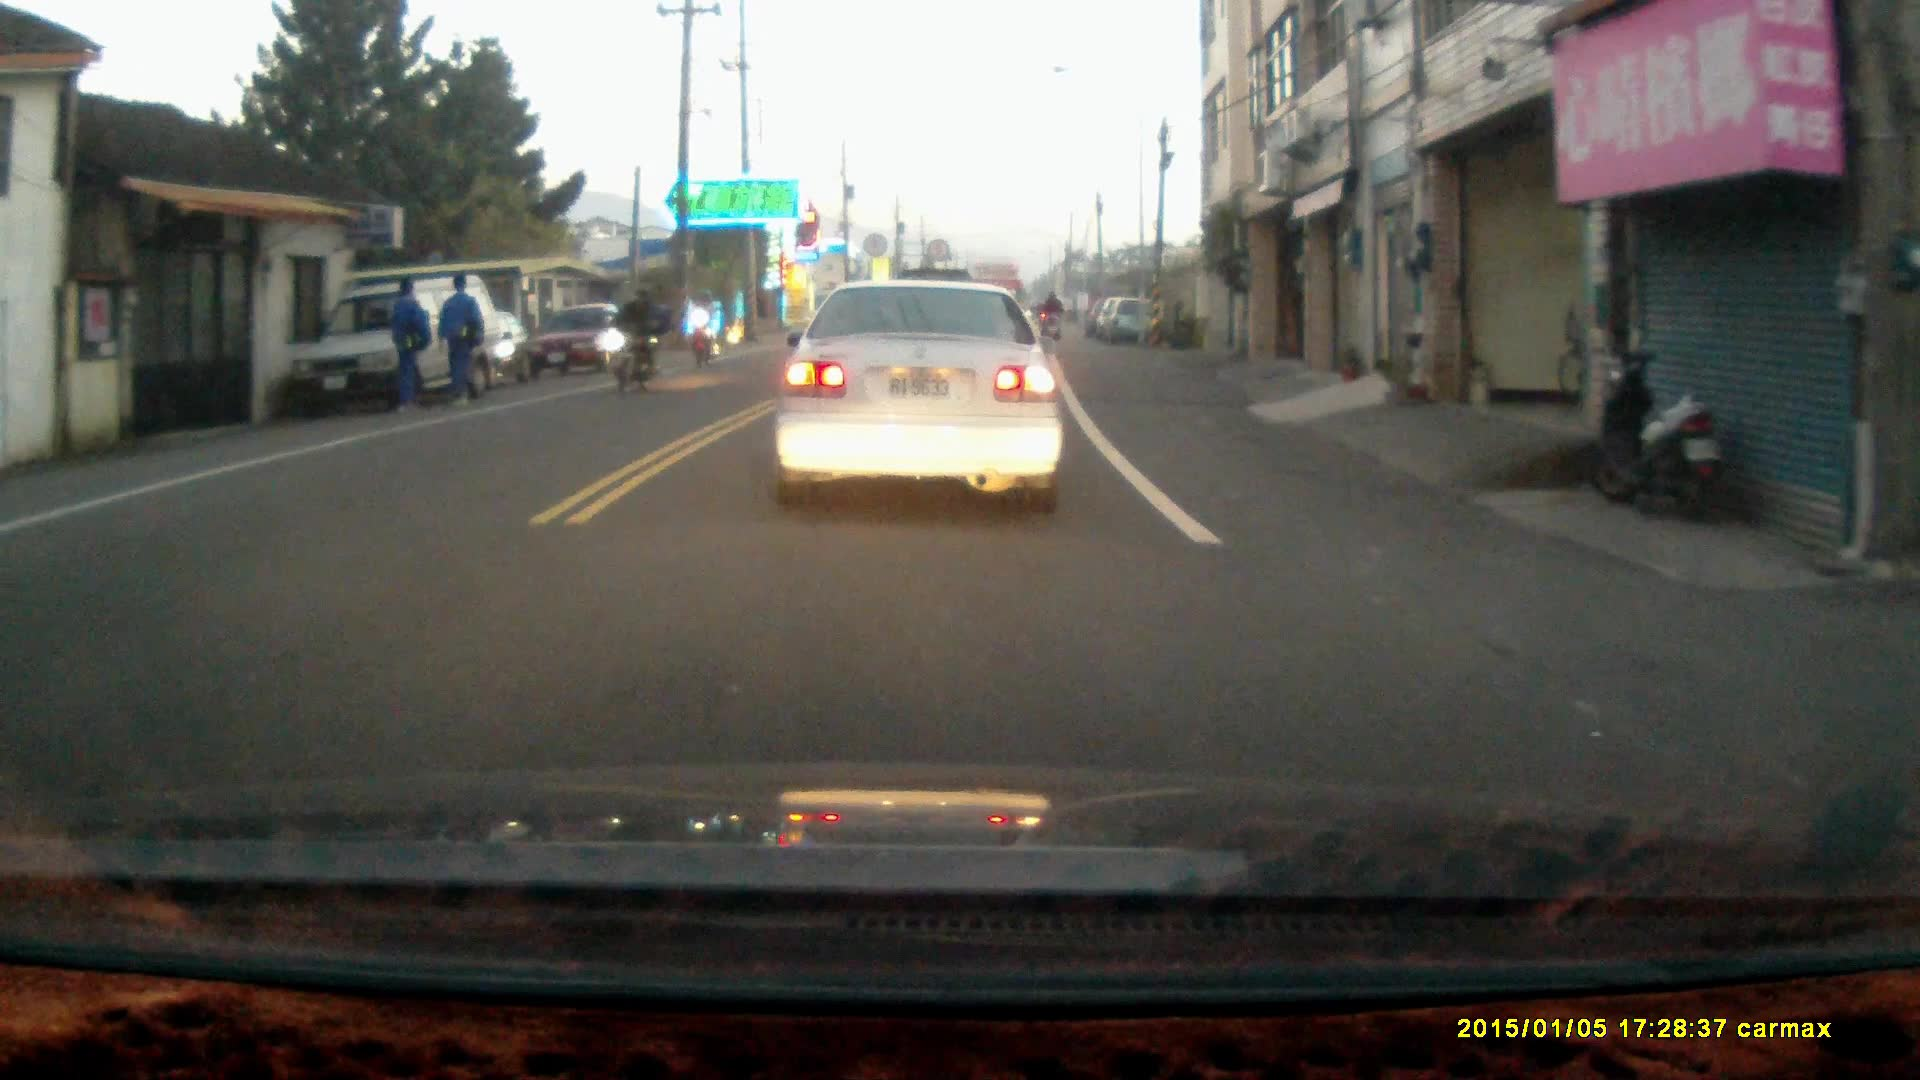pedestrian: (433, 270, 484, 410), (380, 279, 428, 416)
rider: (606, 283, 671, 395), (686, 286, 719, 369)
vehicle: (770, 275, 1068, 513), (290, 276, 515, 409), (528, 304, 642, 381)
